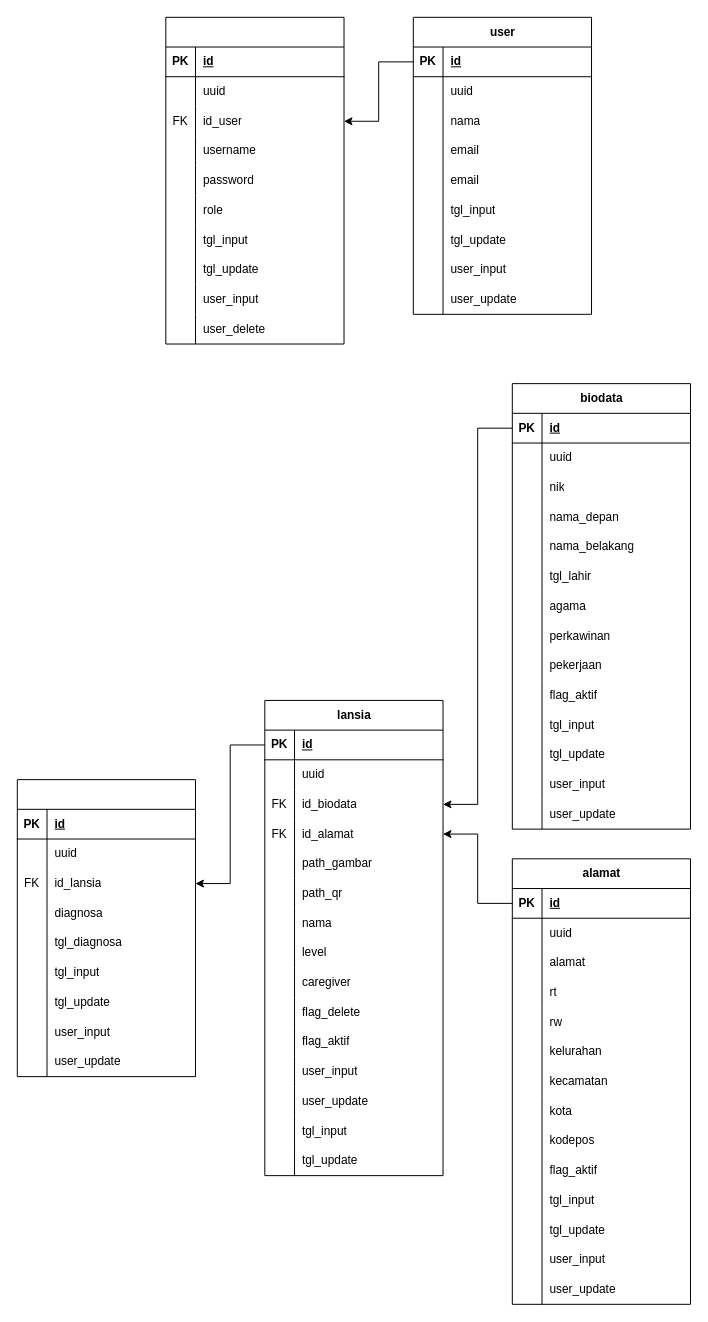
The diagram is 708 pixels wide and 1322 high, and some of its shapes have lost their labels. The shapes that lost their labels are listed below. From the top down, each one's box as (x1, y1, x2, y2) in pixels, then its label:
(165, 16, 344, 344): auth
(16, 779, 196, 1077): riwayat_penyakit
